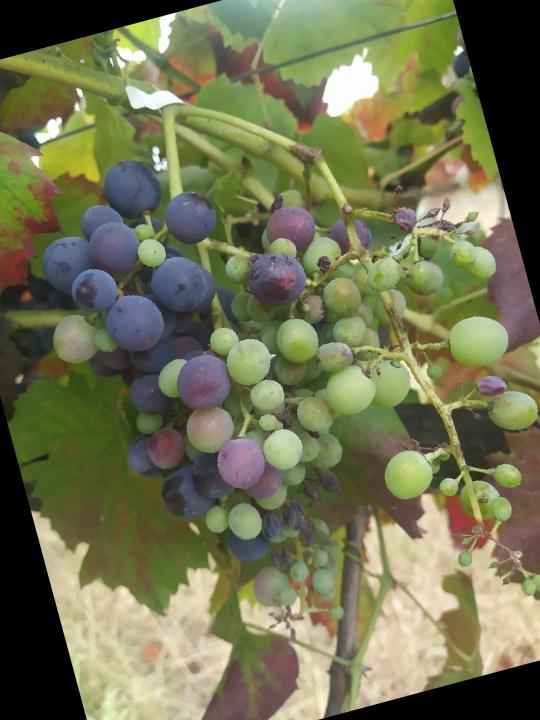grape: (11, 125, 390, 676), (252, 139, 540, 645)
